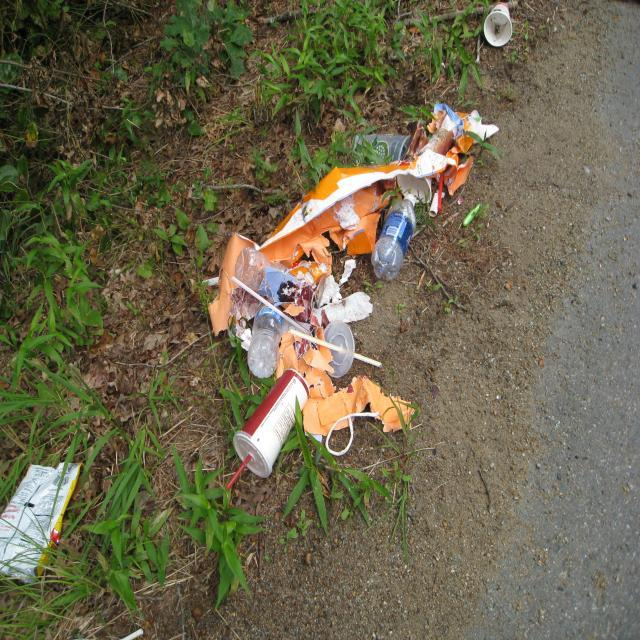plastic: (191, 90, 514, 491), (0, 455, 118, 600), (484, 0, 520, 54)
